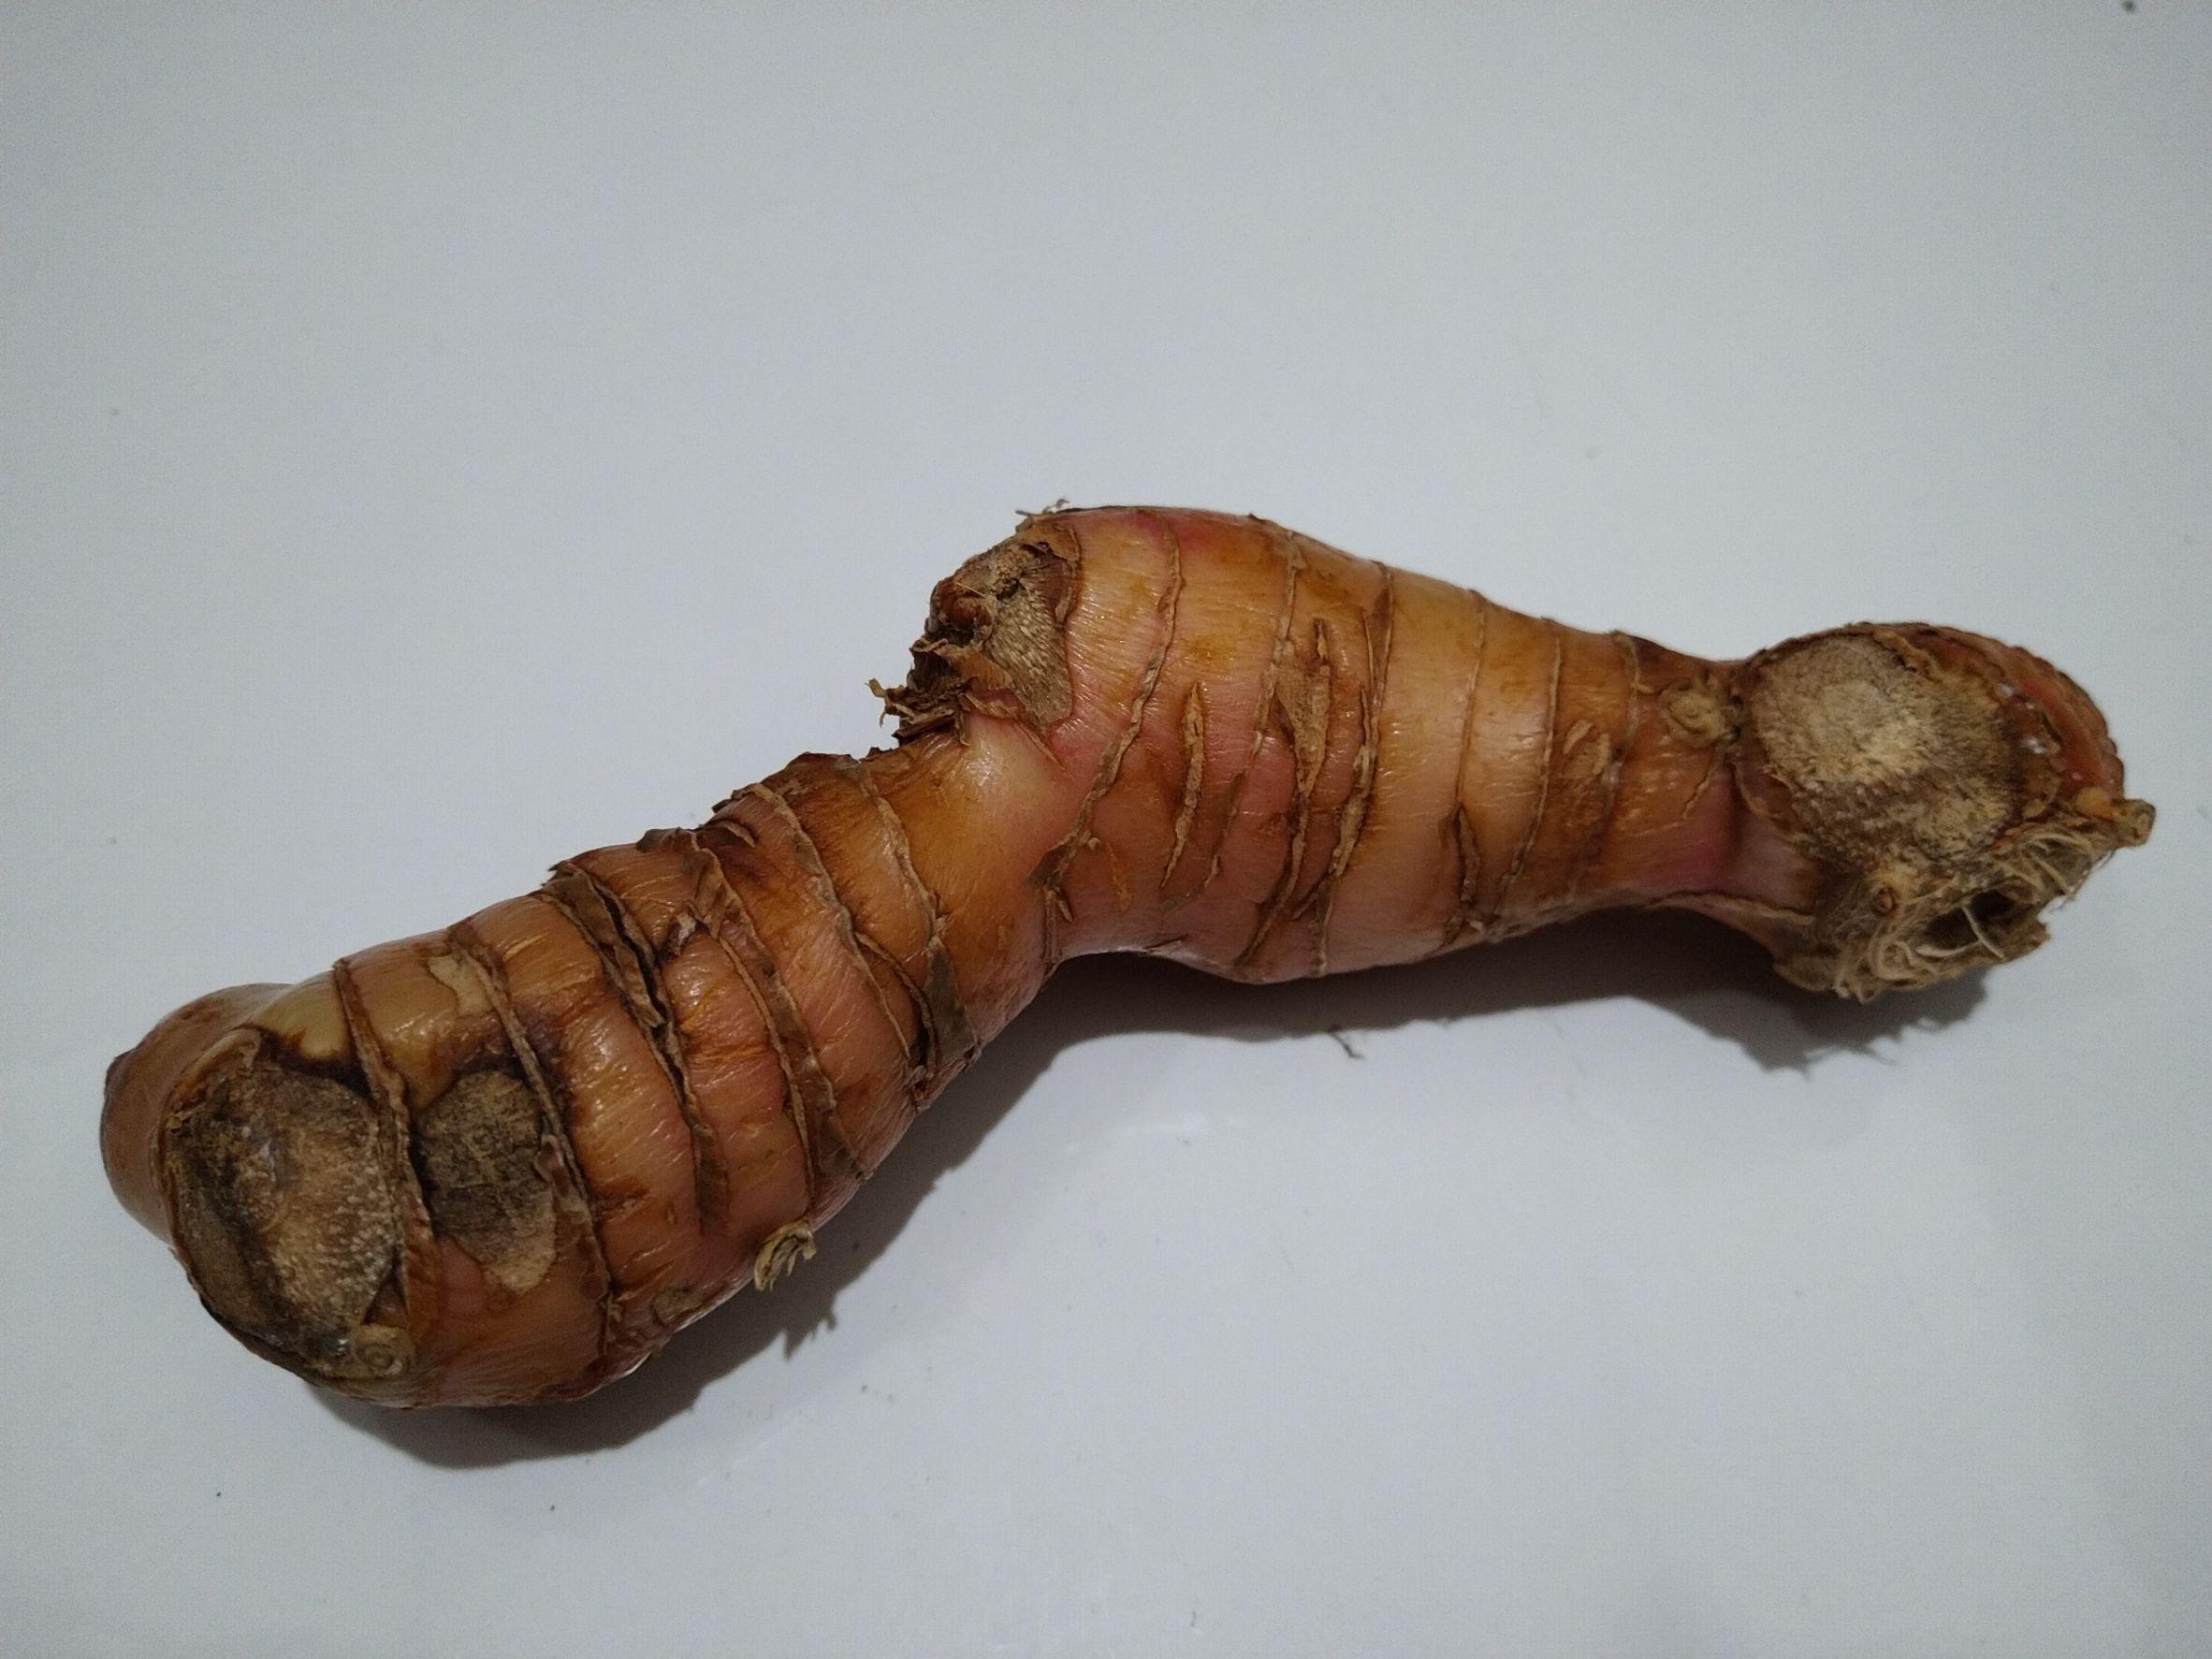Lengkuas: (118, 483, 2149, 1485)
